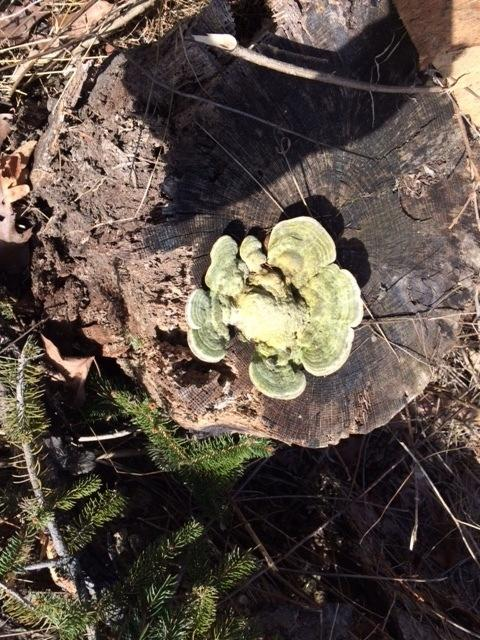Non-edible Mushroom: (183, 214, 364, 400)
